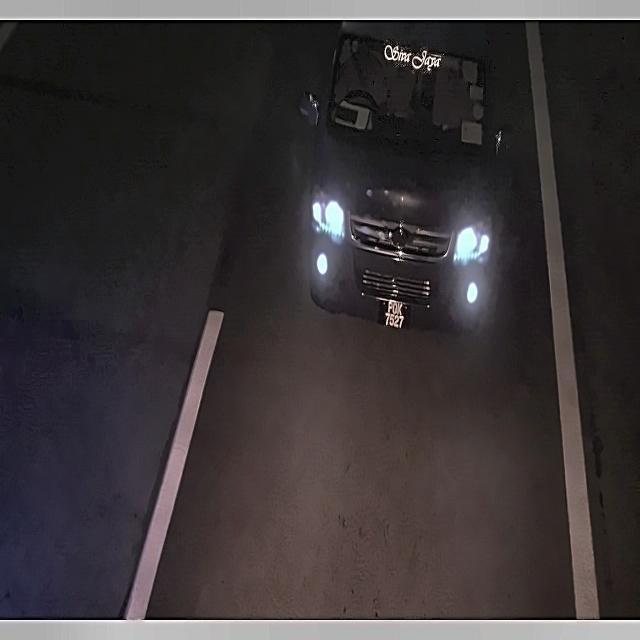car: (376, 294, 412, 336)
